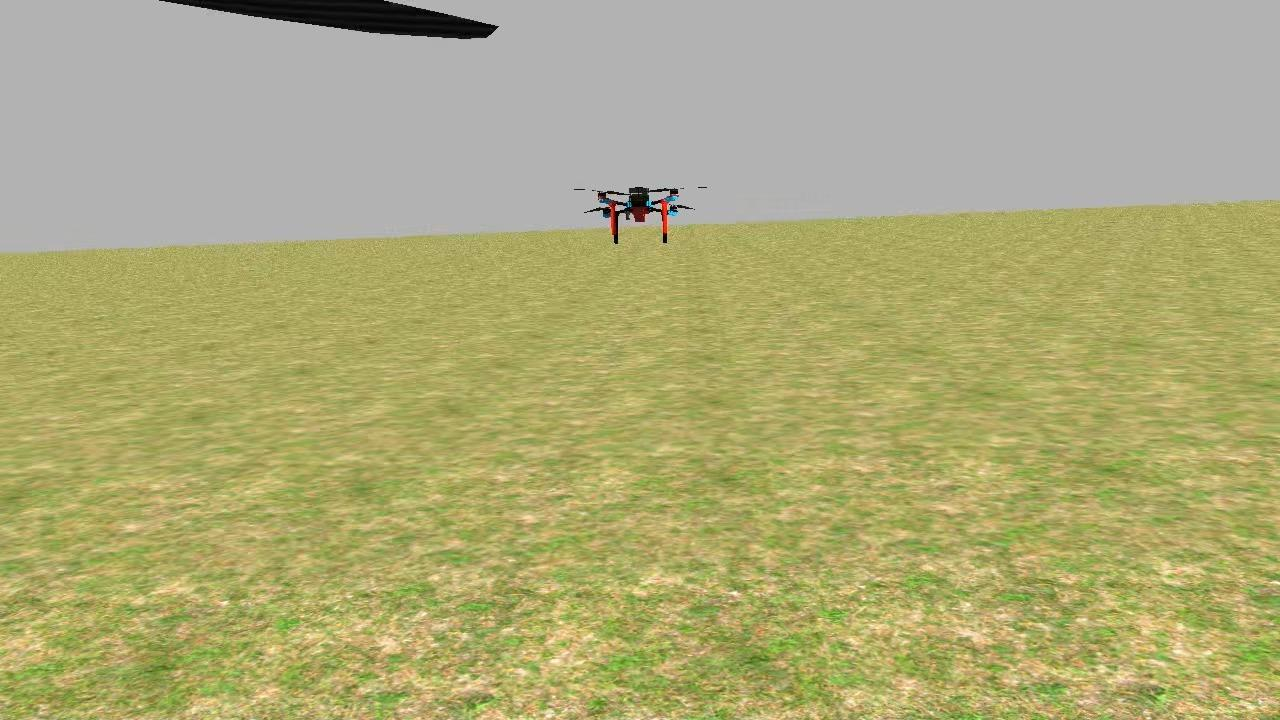UAV: (589, 179, 686, 251)
